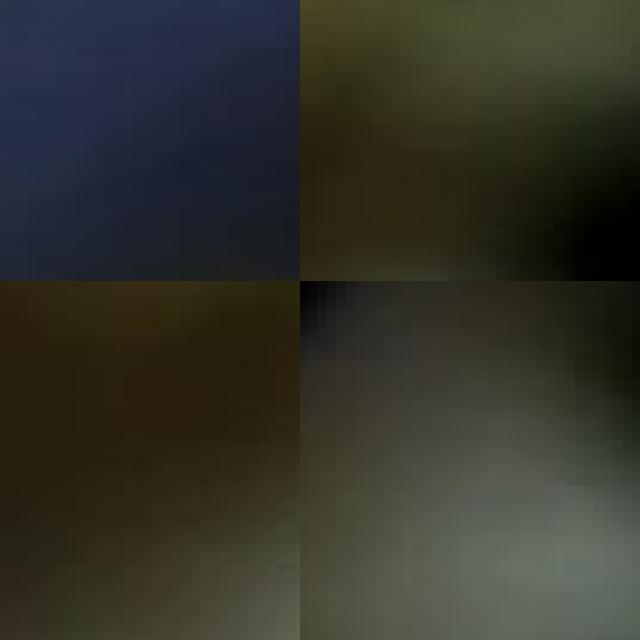fish: (300, 281, 640, 640), (0, 0, 300, 281)
